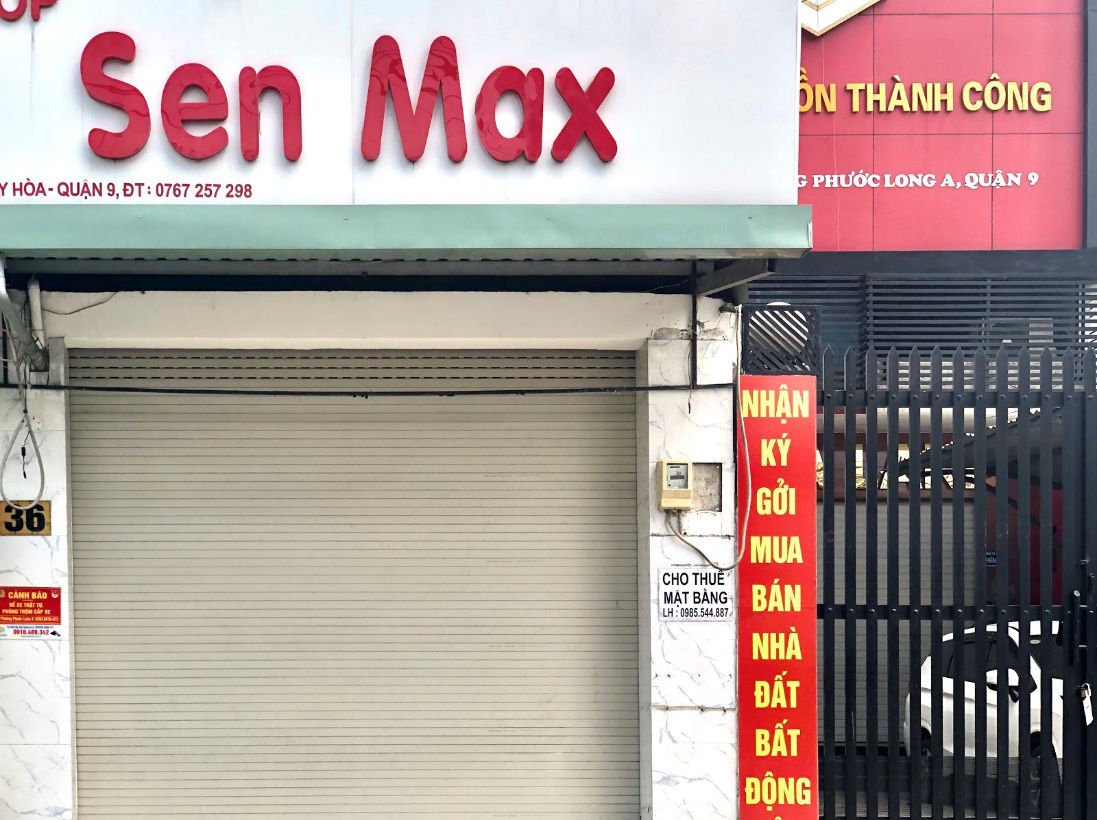banner: (4, 1, 793, 236), (799, 1, 1085, 240), (733, 371, 835, 820), (642, 563, 739, 631), (1, 494, 53, 550)
